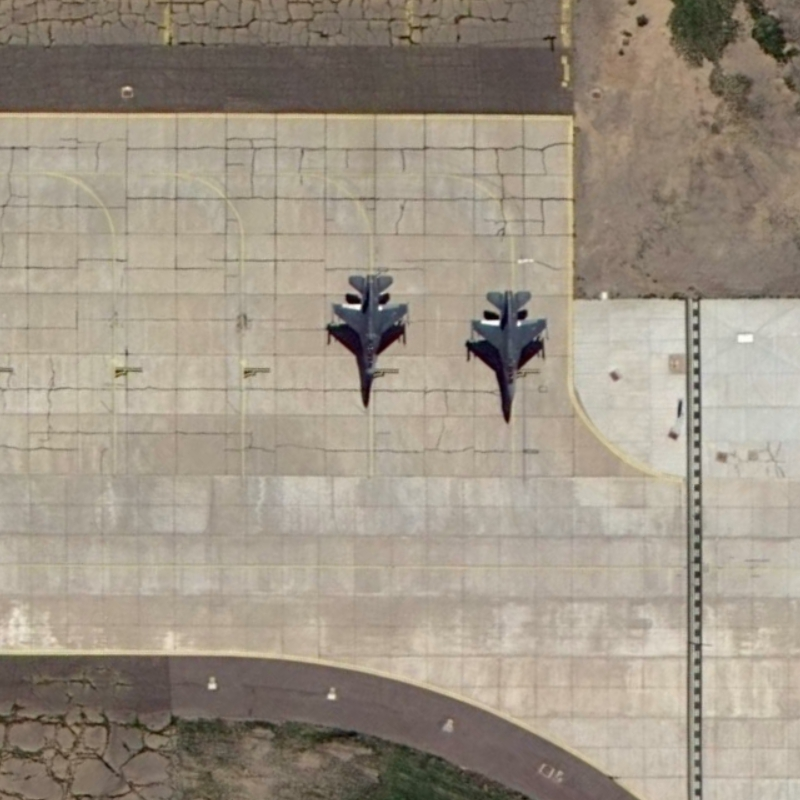A5: (463, 280, 554, 406), (326, 263, 413, 384)
